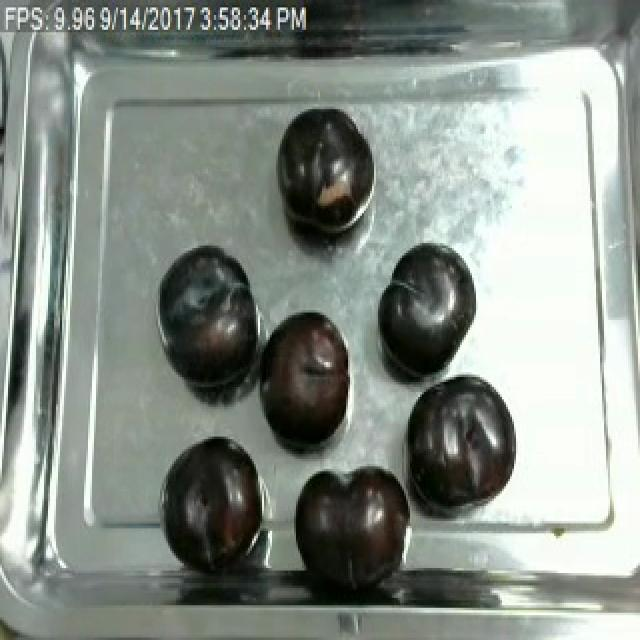Fruit: (282, 454, 416, 595), (400, 372, 522, 516), (152, 243, 264, 397), (248, 303, 358, 459), (156, 424, 270, 571), (372, 238, 482, 382), (274, 104, 376, 236)
